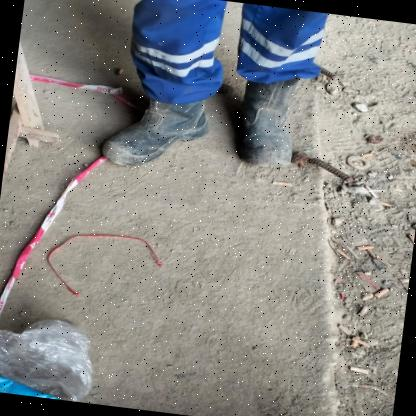bota: (96, 88, 217, 175), (226, 70, 308, 172)
